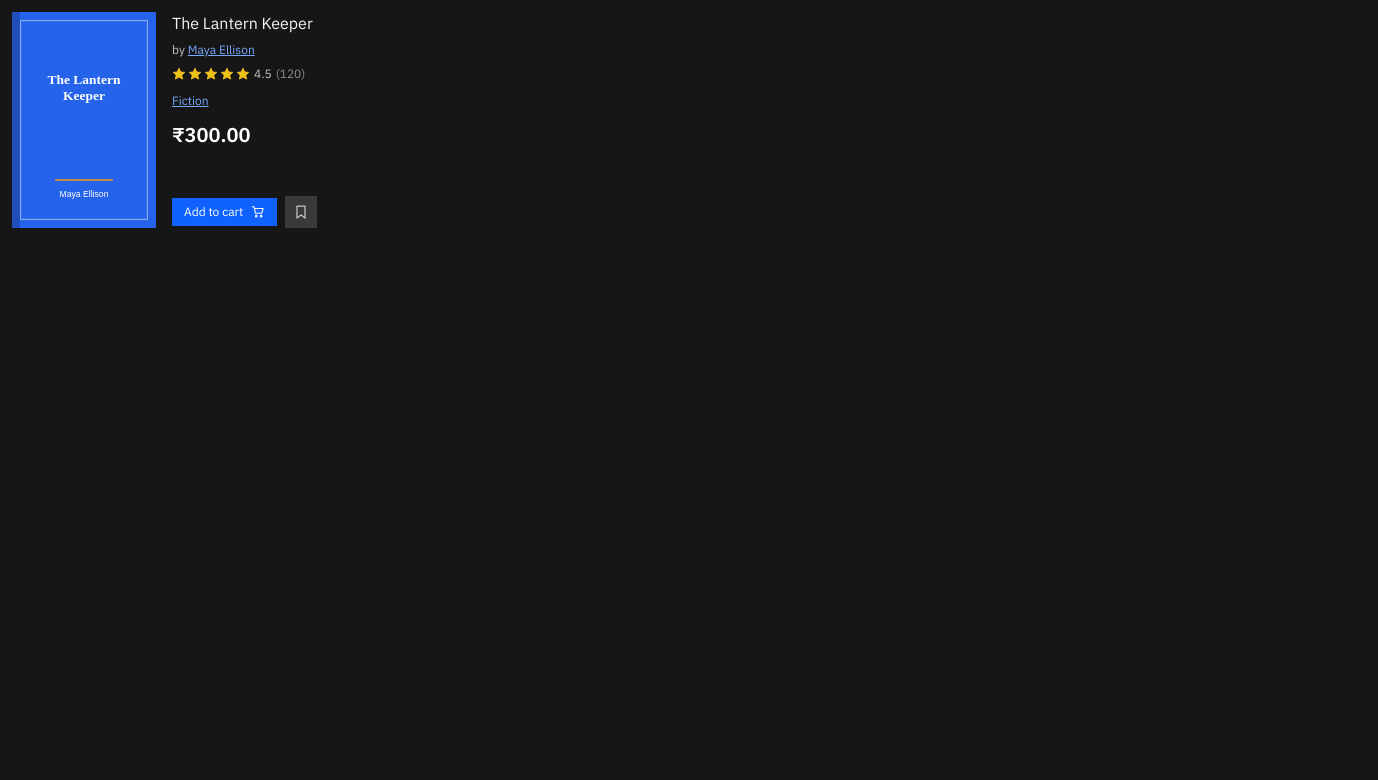
BookCard › adds to cart when signed in
Click the button with aria-label "Add The Lantern Keeper to cart" at (225, 212), box [172, 198, 277, 226]
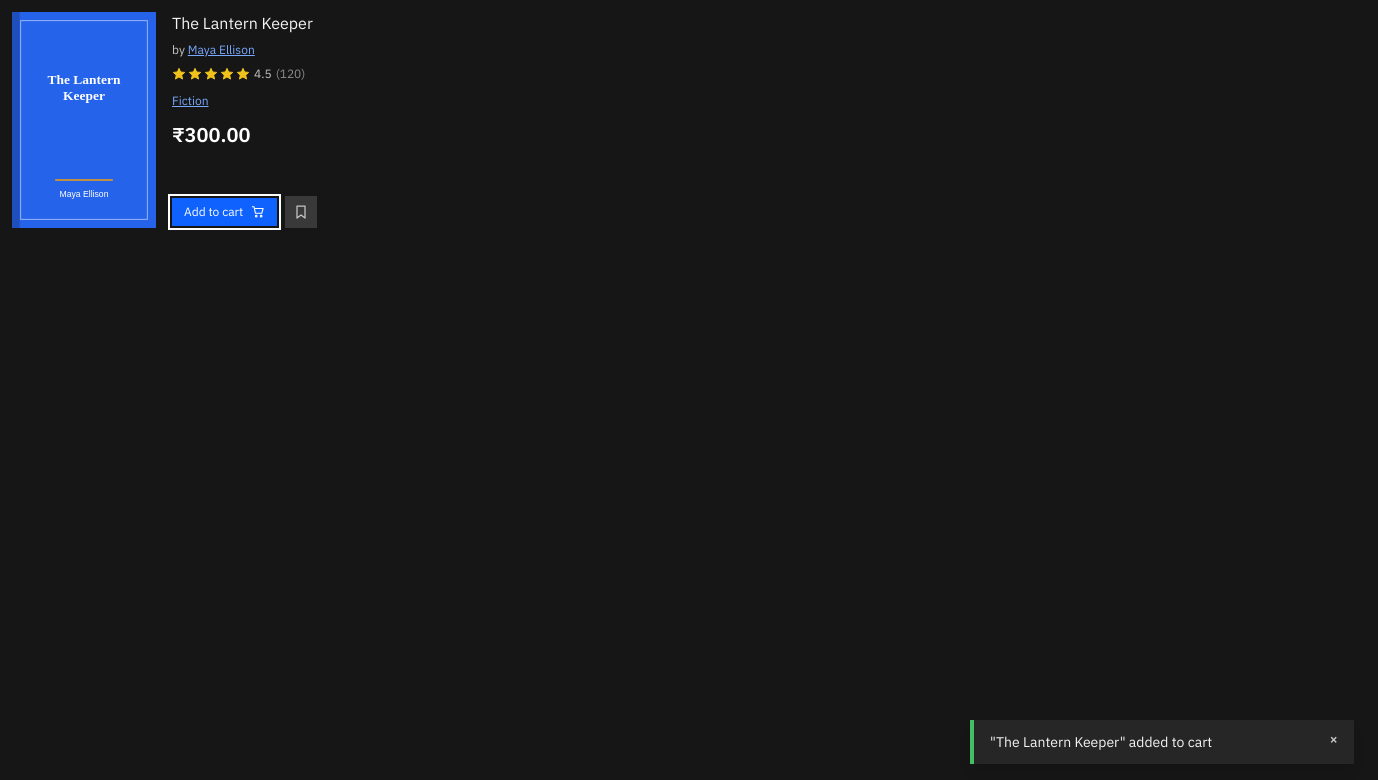
Expected: the text "\"The Lantern Keeper\" added to cart" is shown, [990, 733, 1212, 751]
